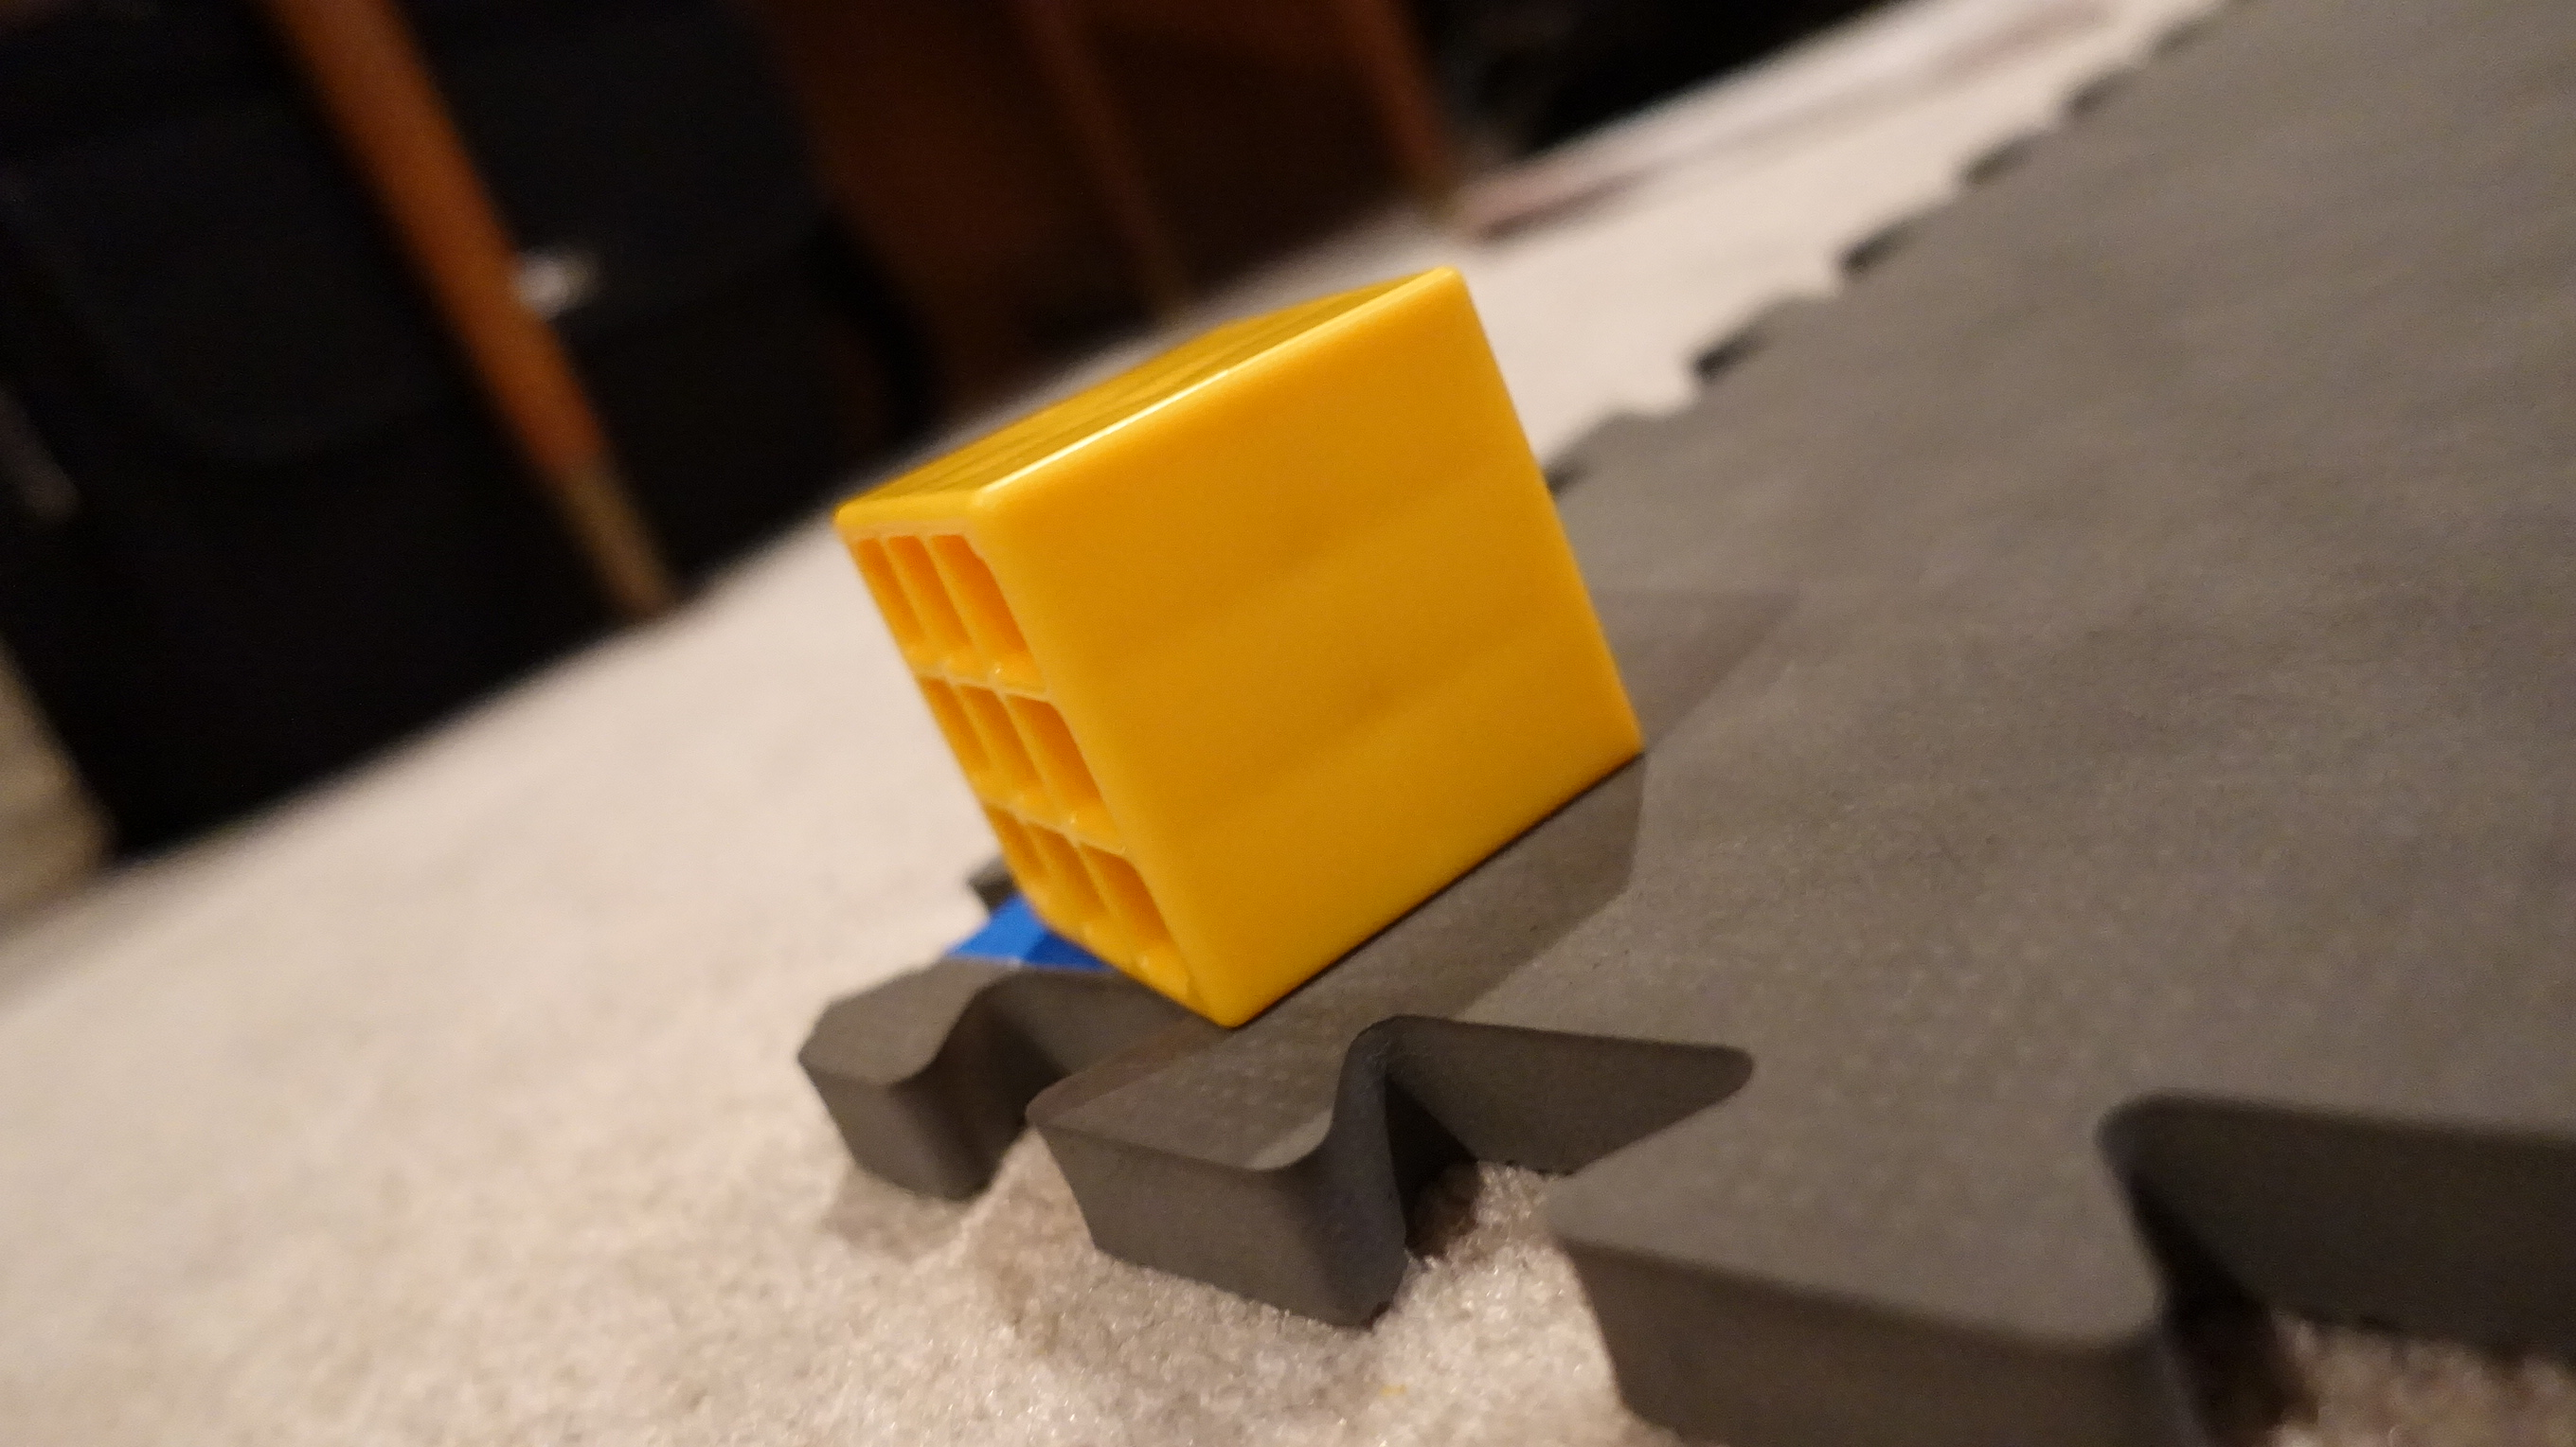gold: (816, 262, 1651, 1026)
